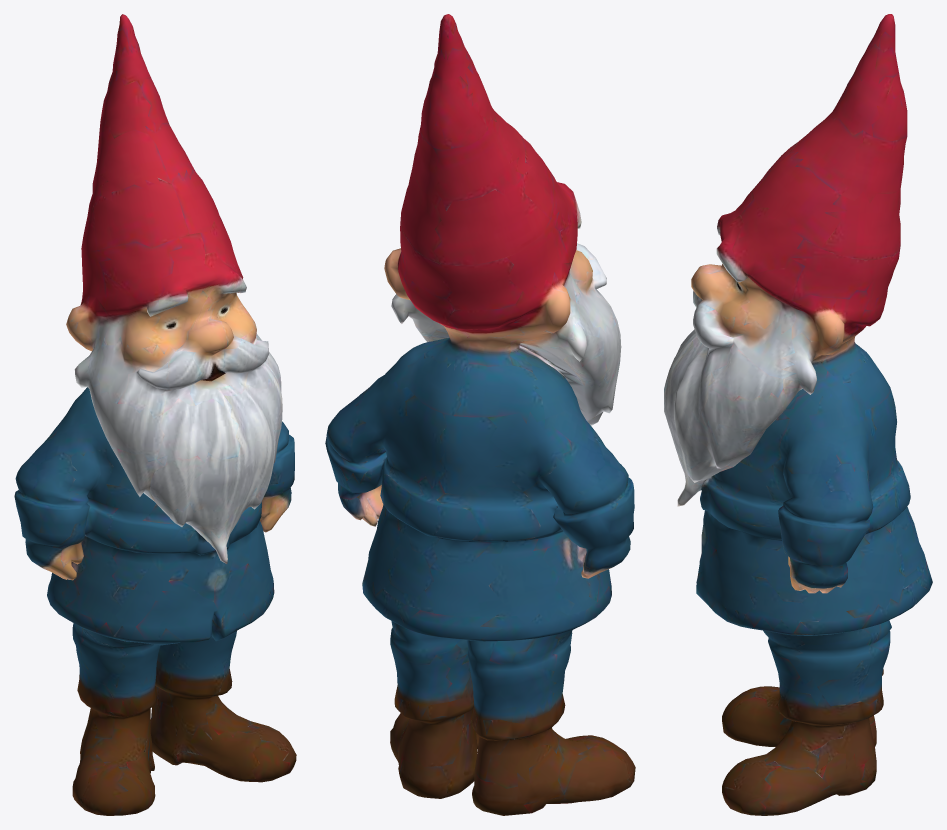
Rendered from gnome.glb.
The picture shows the model from 3 angles, left to right: view 1: azimuth 30°, elevation 25°; view 2: azimuth 150°, elevation 25°; view 3: azimuth 270°, elevation 25°; orthographic projection. The views are drawn at different scales.
Size of the model in its own units: 0.7397 by 1.91 by 0.6184.
1 material, 1 textured.
